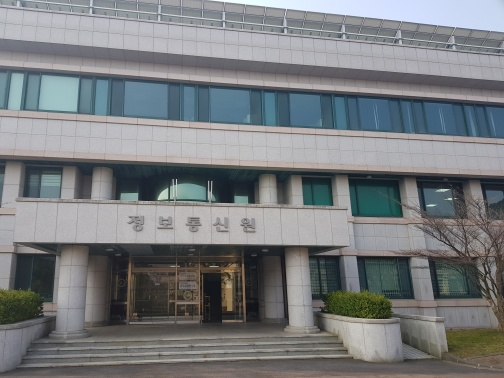Information Telecommunication Center: (1, 1, 499, 330), (111, 252, 283, 327), (106, 201, 276, 247)
